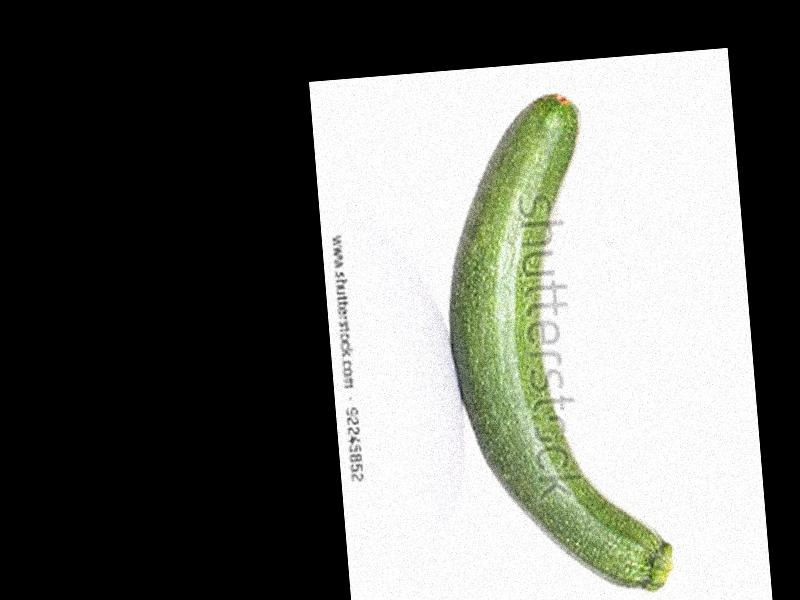Cucumber: (432, 87, 676, 600)
